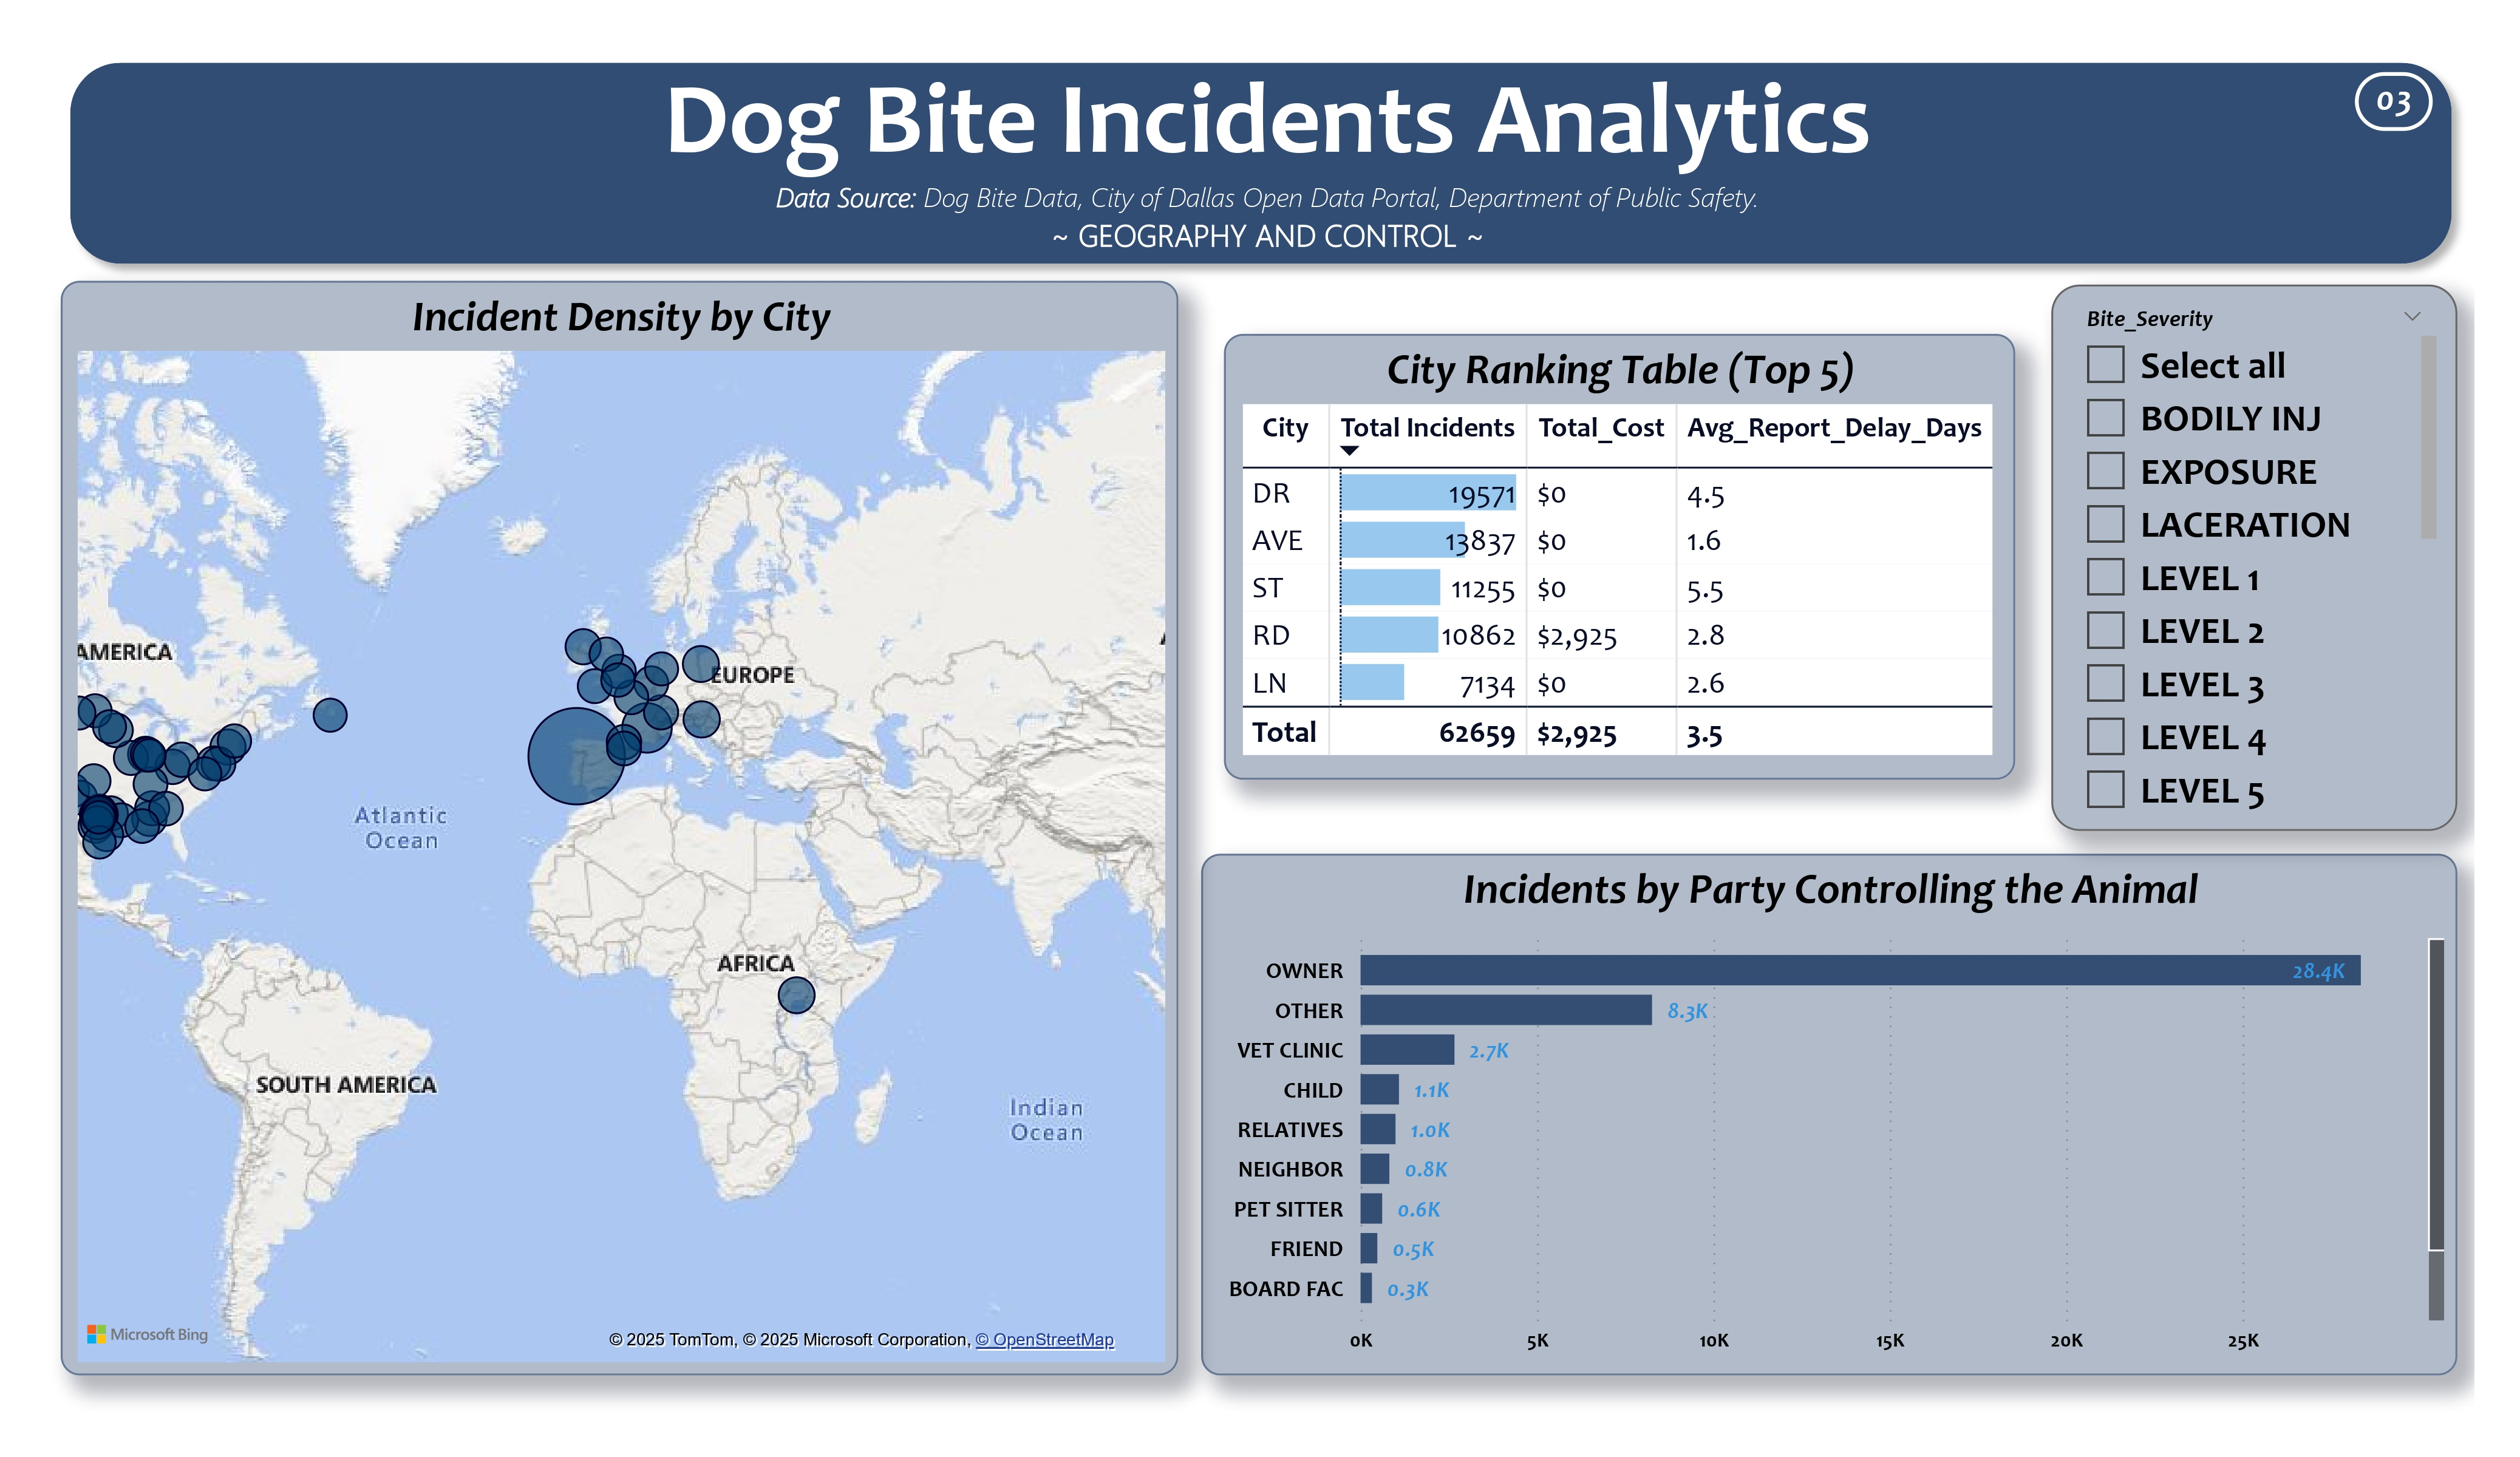

What the dashboard file says about the page in this screenshot:
{"tool":"powerbi","page":{"name":"Geography & Control","canvas":[1280,720],"ordinal":2},"visuals":[{"type":"shape","box":[4.4,0,1272.2,124.4],"z":0},{"type":"textbox","box":[7.6,0,1272.4,125.3],"z":1000},{"type":"textbox","box":[1217.1,14.1,40.6,31.2],"z":2000},{"type":"clusteredBarChart","title":"Incidents by Party Controlling the Animal","fields":{"Category":["F_Incidents.Controlled_By"],"Y":["_Measures.Total Incidents"]},"box":[609.1,425.6,661.6,275.6],"z":3000},{"type":"map","title":"Incident Density by City","fields":{"Category":["F_Incidents.City"],"Size":["_Measures.Total Incidents"]},"box":[8.1,124.4,588.4,576.7],"z":4000},{"type":"slicer","title":"Peak Activity Heatmap","fields":{"Values":["F_Incidents.Bite_Severity"]},"box":[1056.8,125.6,214,288.4],"z":5000},{"type":"tableEx","title":"City Ranking Table (Top 5)","fields":{"Values":["F_Incidents.City","_Measures.Total Incidents","_Measures.Total_Cost","_Measures.Avg_Report_Delay_Days"]},"box":[620.9,152.3,417.4,234.9],"z":6000}]}

Visuals, with their boxes in screenshot pixels (x1, y1, x2, y2):
shape: box=[54, 46, 2468, 282]
textbox: box=[60, 46, 2474, 284]
textbox: box=[2355, 72, 2432, 132]
"Incidents by Party Controlling the Animal" clusteredBarChart: box=[1201, 853, 2457, 1376]
"Incident Density by City" map: box=[61, 282, 1177, 1376]
"Peak Activity Heatmap" slicer: box=[2051, 284, 2457, 831]
"City Ranking Table (Top 5)" tableEx: box=[1224, 335, 2016, 780]
